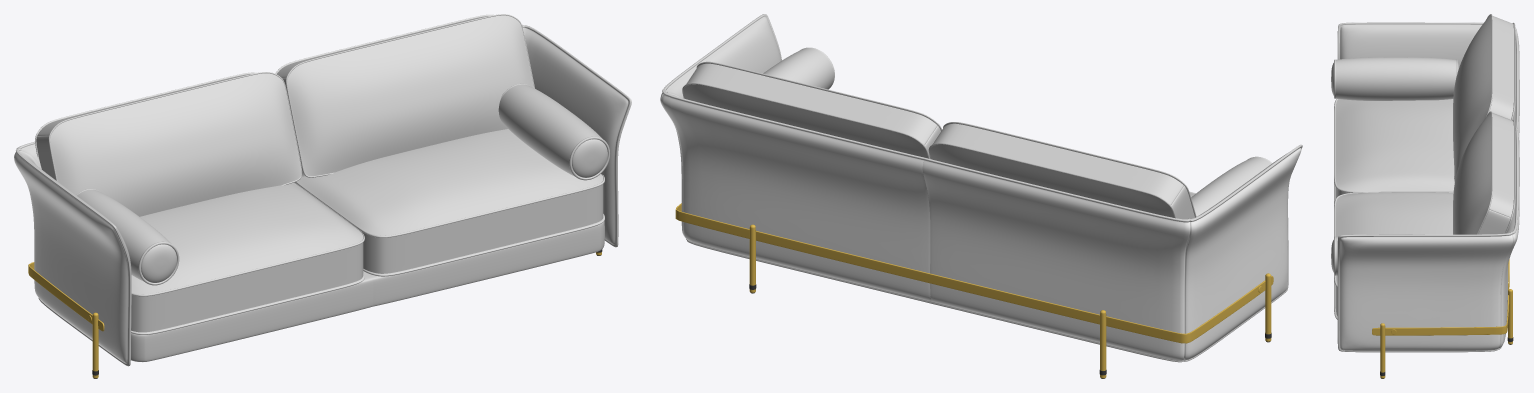
The model's file is SLN_Oasis_2.5_Seater.glb.
3 renders of one model, left to right at view 1: azimuth 30°, elevation 25°; view 2: azimuth 150°, elevation 25°; view 3: azimuth 270°, elevation 25°, orthographic. The views are drawn at different scales.
Visible parts, largest first — view 1: Oasis_2.5_Seater; view 2: Oasis_2.5_Seater; view 3: Oasis_2.5_Seater.
Boxes of the visible parts, bbox=[...] form: Oasis_2.5_Seater: bbox=[14, 14, 631, 378]; Oasis_2.5_Seater: bbox=[660, 14, 1302, 378]; Oasis_2.5_Seater: bbox=[1331, 14, 1519, 378].
Size of the model in its own units: 2.27 by 0.8401 by 0.8436.
